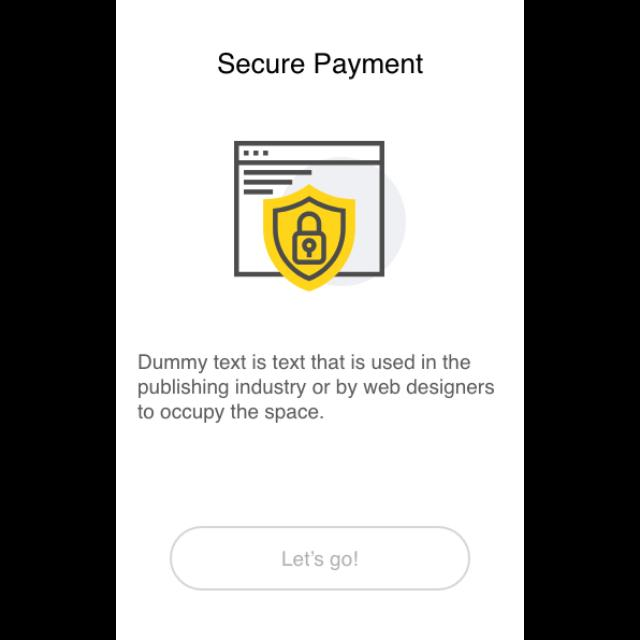image: (235, 142, 408, 292)
text: (138, 354, 496, 424), (218, 54, 424, 80)
textbutton: (170, 526, 472, 592)
